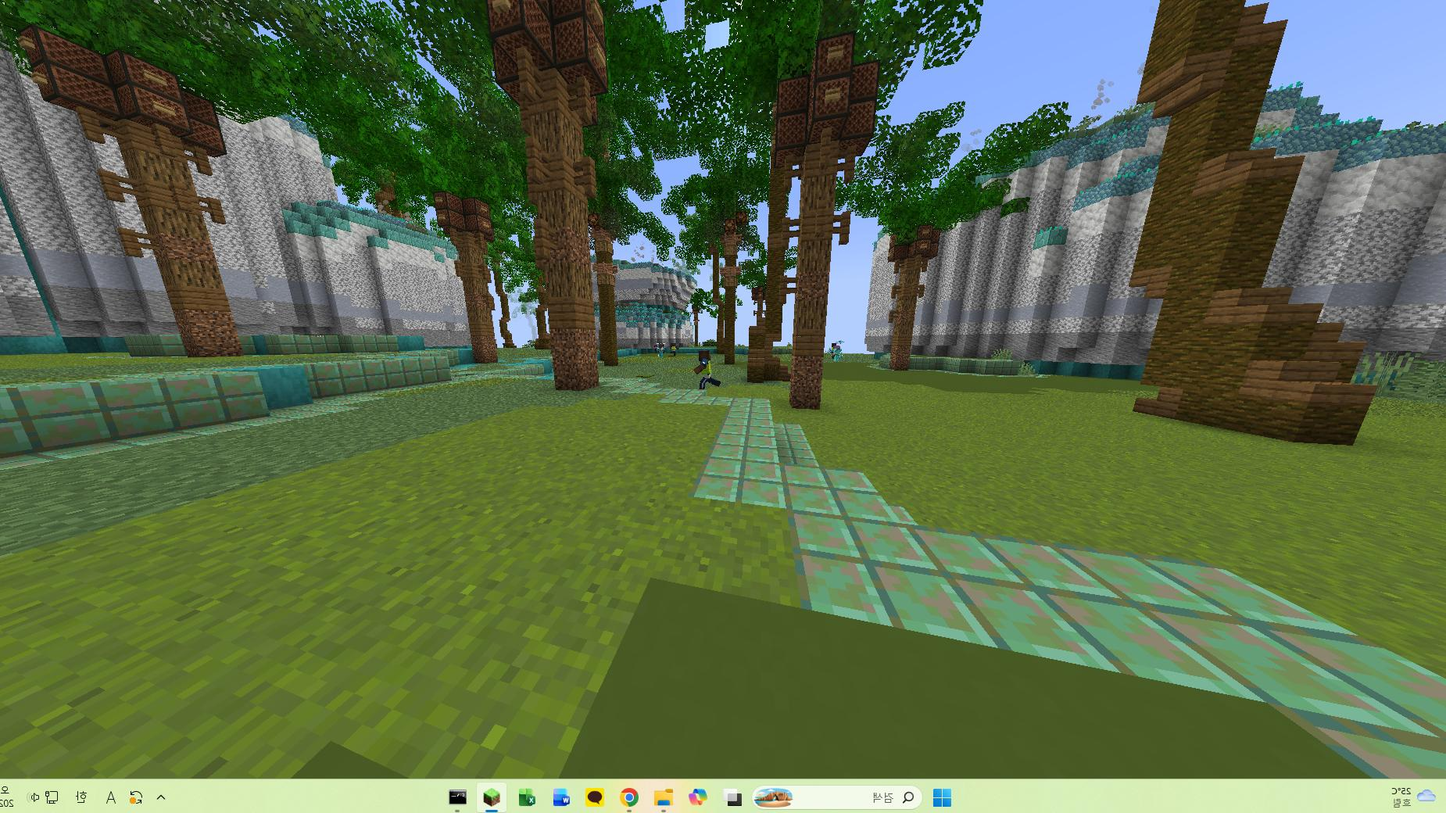Guardian: (693, 349, 721, 391)
